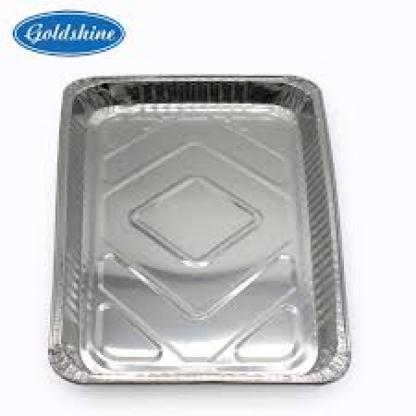METAL: (46, 72, 350, 385)
